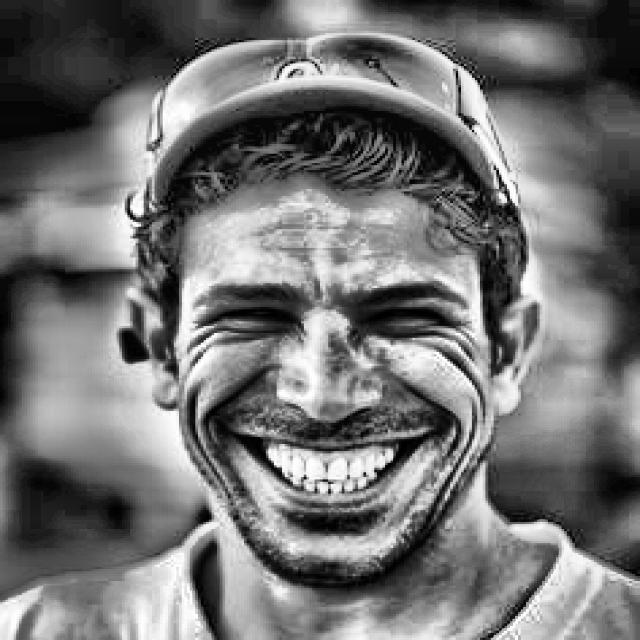happy: (93, 36, 554, 576)
